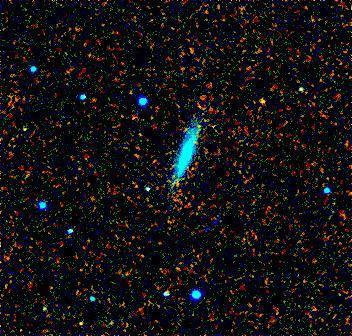star: (250, 81, 280, 111)
